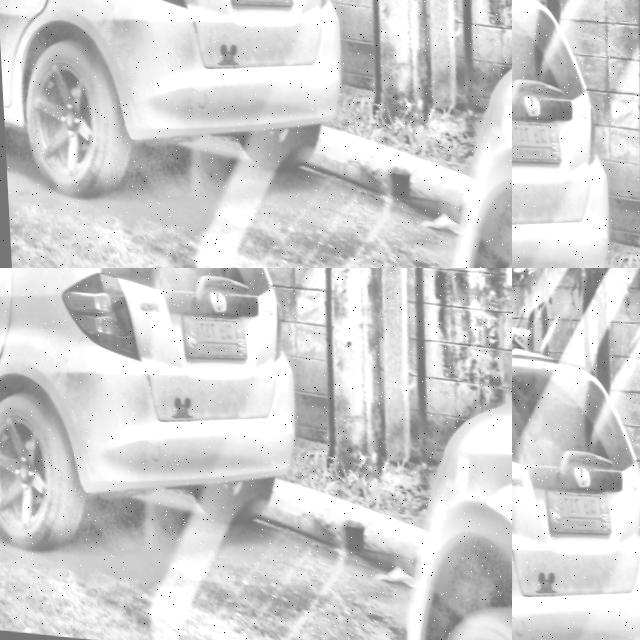license-plate: (538, 477, 610, 539)
